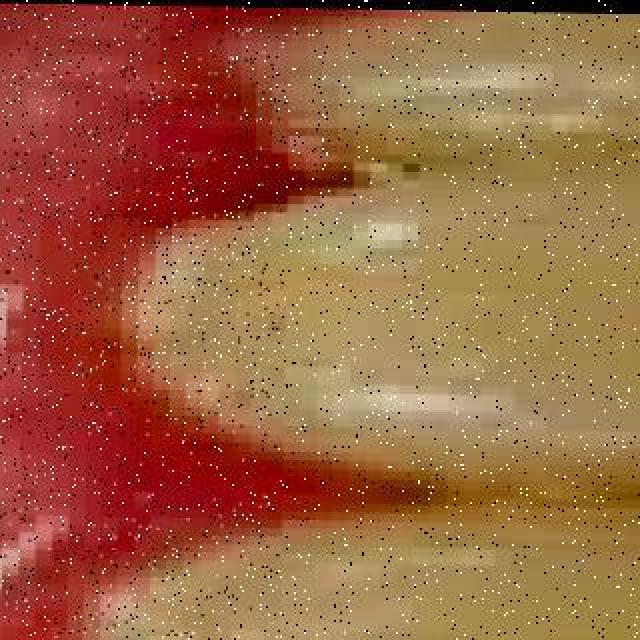plaque: (128, 180, 434, 512), (90, 538, 436, 640)
